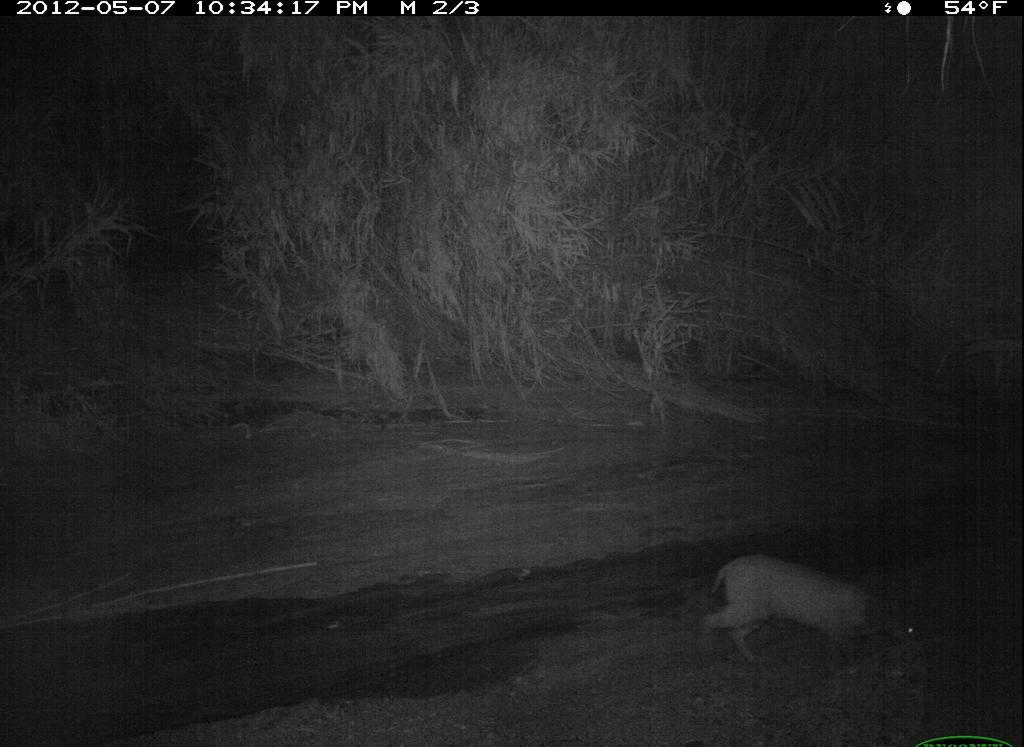bobcat: (651, 532, 909, 676)
